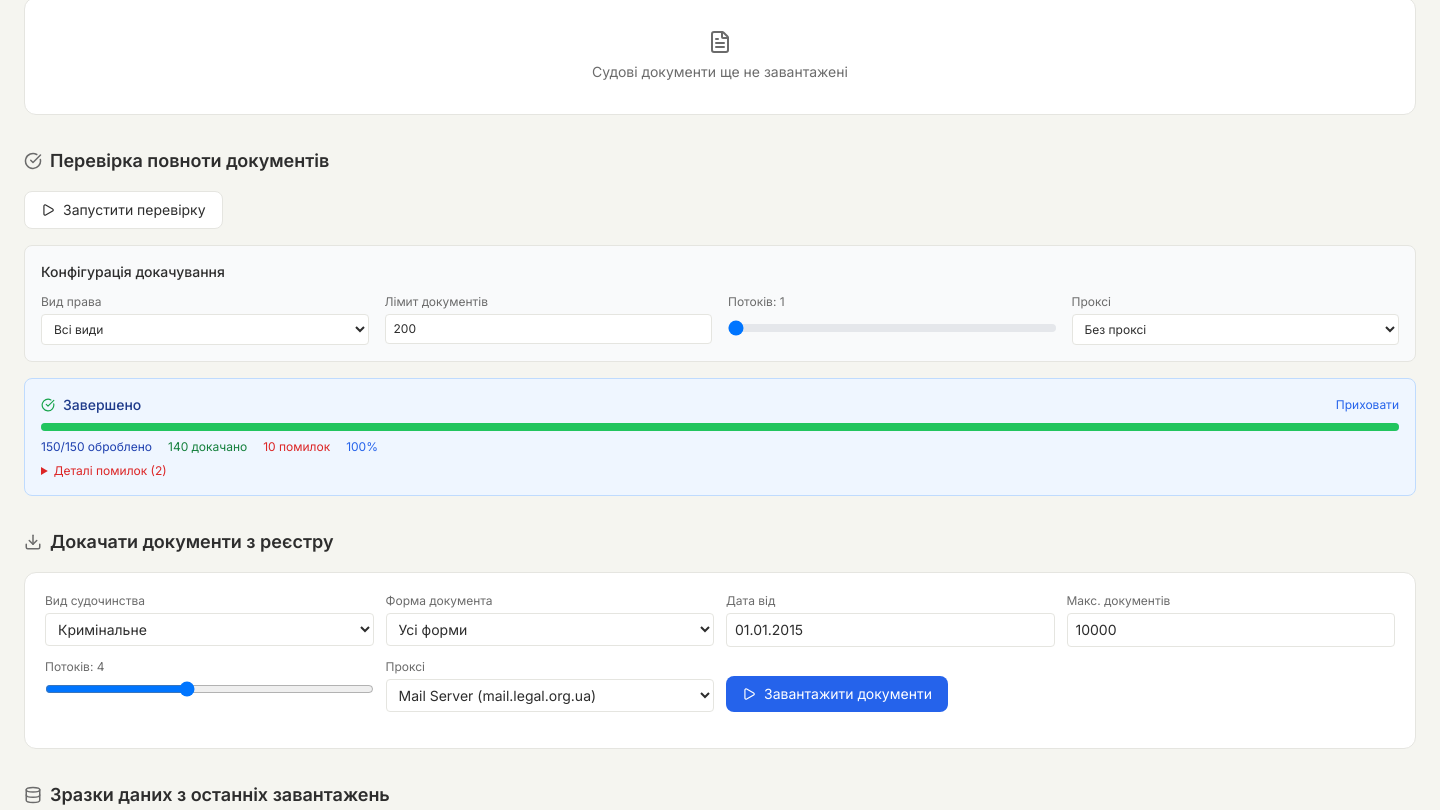
Scenario: Document Completeness & Backfill › Backfill - Progress › hides progress when "Приховати" is clicked
The width and height of the screenshot is (1440, 810).
(page scrolled)
Expected: the text "Завершено" is shown, [63,395,141,415]
Click the button "Приховати".
click(1367, 405)  # box [1336,397,1399,413]
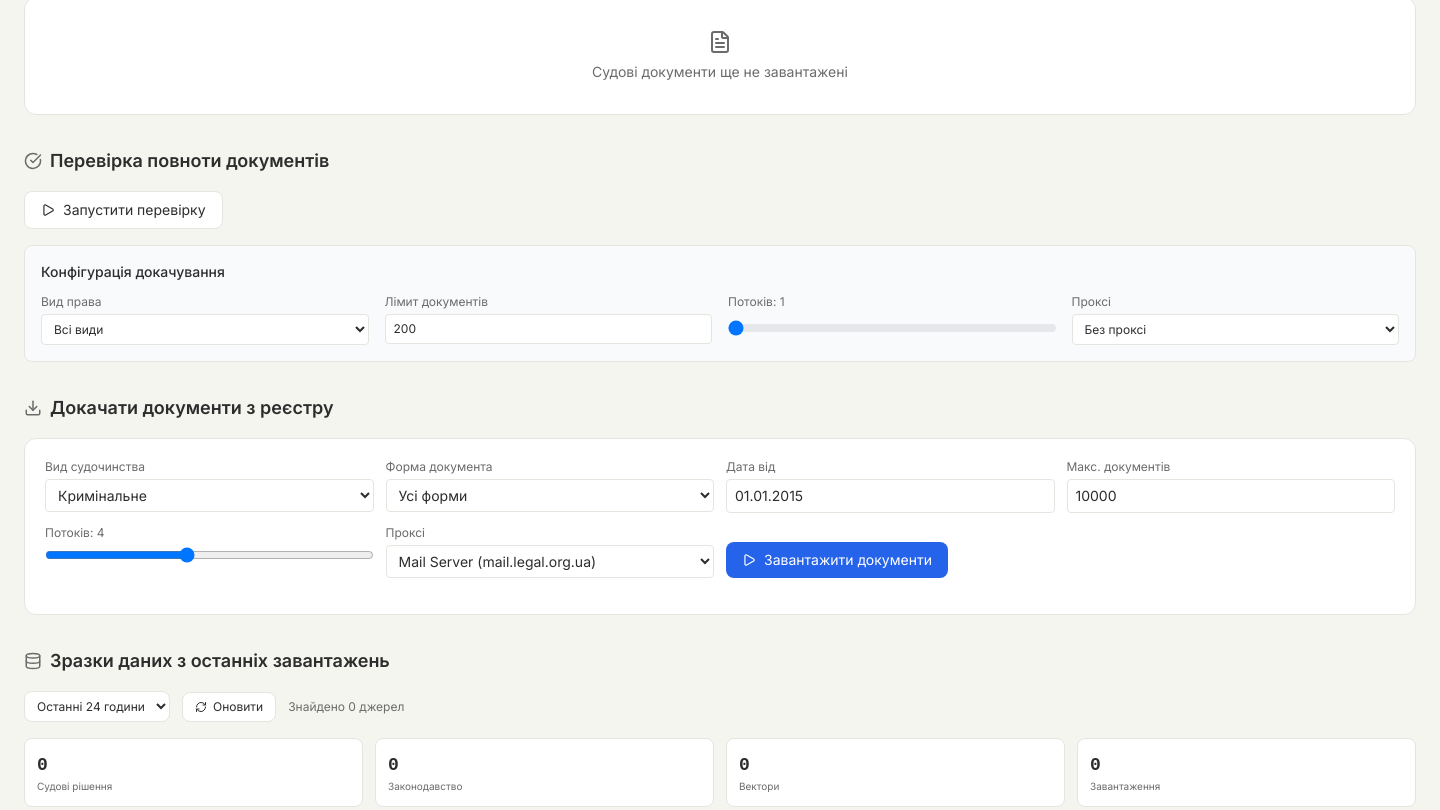
Now the text "Завершено" is gone
